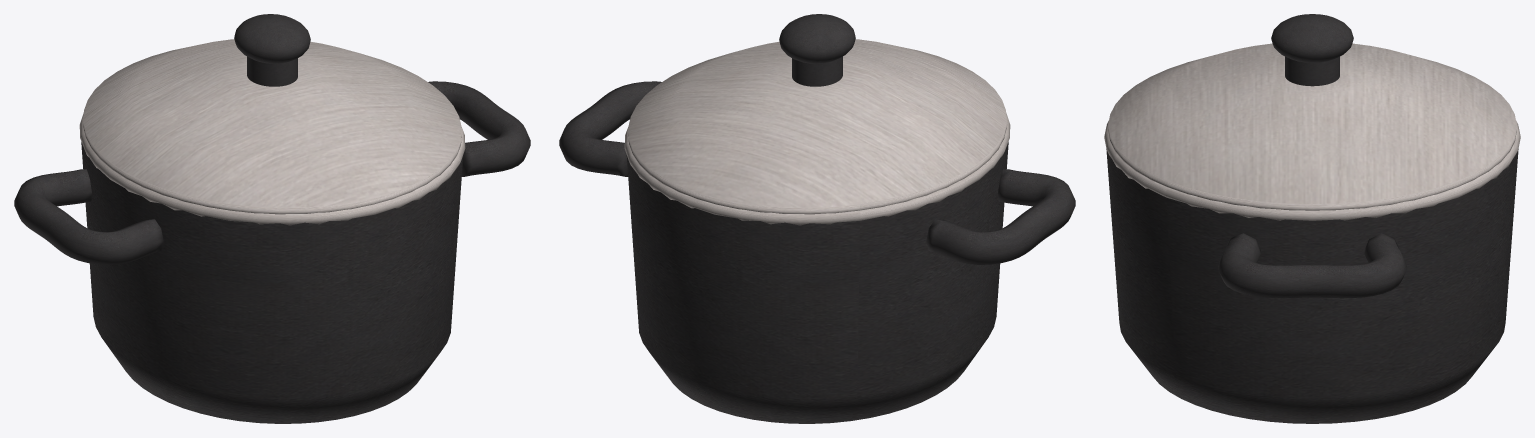
The model's file is SM_InteriorAdditions_CookingPot.fbx.
3 renders of one model, left to right at view 1: azimuth 30°, elevation 25°; view 2: azimuth 150°, elevation 25°; view 3: azimuth 270°, elevation 25°, orthographic.
Parts seen in each view (by area): view 1: SM_InteriorAdditions_CookingPot; view 2: SM_InteriorAdditions_CookingPot; view 3: SM_InteriorAdditions_CookingPot.
Part boxes in pixels (left/top/right/bottom): SM_InteriorAdditions_CookingPot: left=14, top=14, right=530, bottom=423; SM_InteriorAdditions_CookingPot: left=559, top=14, right=1075, bottom=423; SM_InteriorAdditions_CookingPot: left=1104, top=14, right=1520, bottom=423.
Size of what is drawn, in the model's own units: 39 by 30 by 27.
